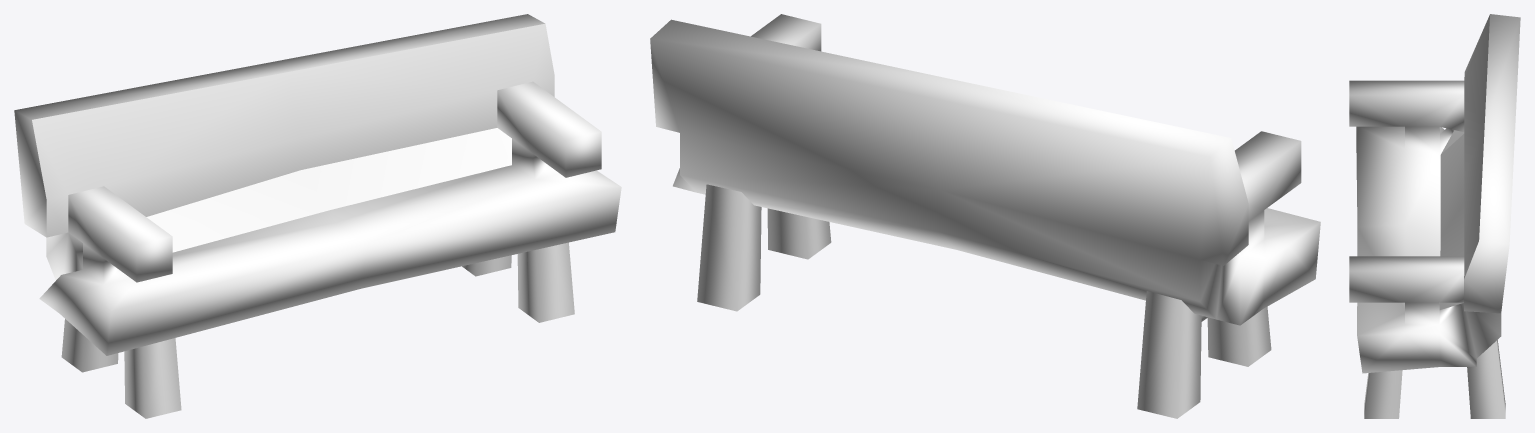
File: bench.glb
3 renders of one model, left to right at view 1: azimuth 30°, elevation 25°; view 2: azimuth 150°, elevation 25°; view 3: azimuth 270°, elevation 25°, orthographic. The views are drawn at different scales.
Visible parts, largest first — view 1: bench; view 2: bench; view 3: bench.
Part boxes in pixels (x1,y1,x2,y2): bench: (14, 14, 621, 418); bench: (650, 14, 1320, 418); bench: (1349, 14, 1520, 418).
Size of the model in its own units: 2.38 by 1.13 by 0.8233.
Materials: 1 (1 with a texture image).
